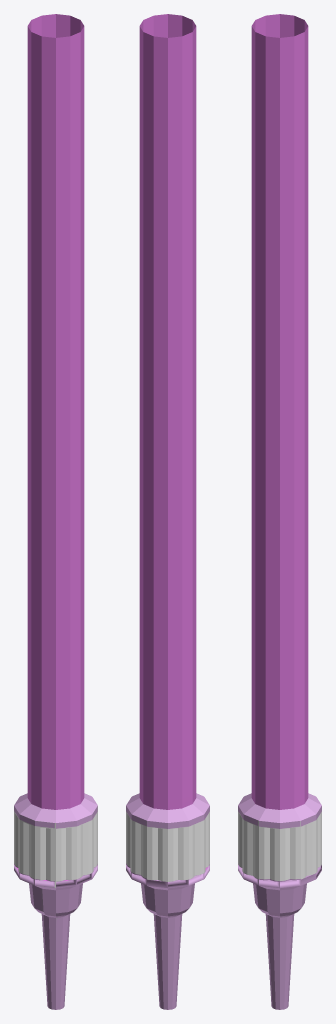
The model's file is cottonmachine.FBX.
3 renders of one model, left to right at view 1: azimuth 30°, elevation 25°; view 2: azimuth 210°, elevation 25°; view 3: azimuth 270°, elevation 25°, orthographic.
Parts seen in each view (by area): view 1: Cylinder003; view 2: Cylinder003; view 3: Cylinder003.
Boxes of the visible parts, x1,y1,x2,y2 form: Cylinder003: [14, 14, 97, 1009]; Cylinder003: [126, 14, 209, 1009]; Cylinder003: [238, 14, 321, 1009].
Size of the model in its own units: 33.61 by 433 by 33.61.
Materials: 1 (1 with a texture image).
